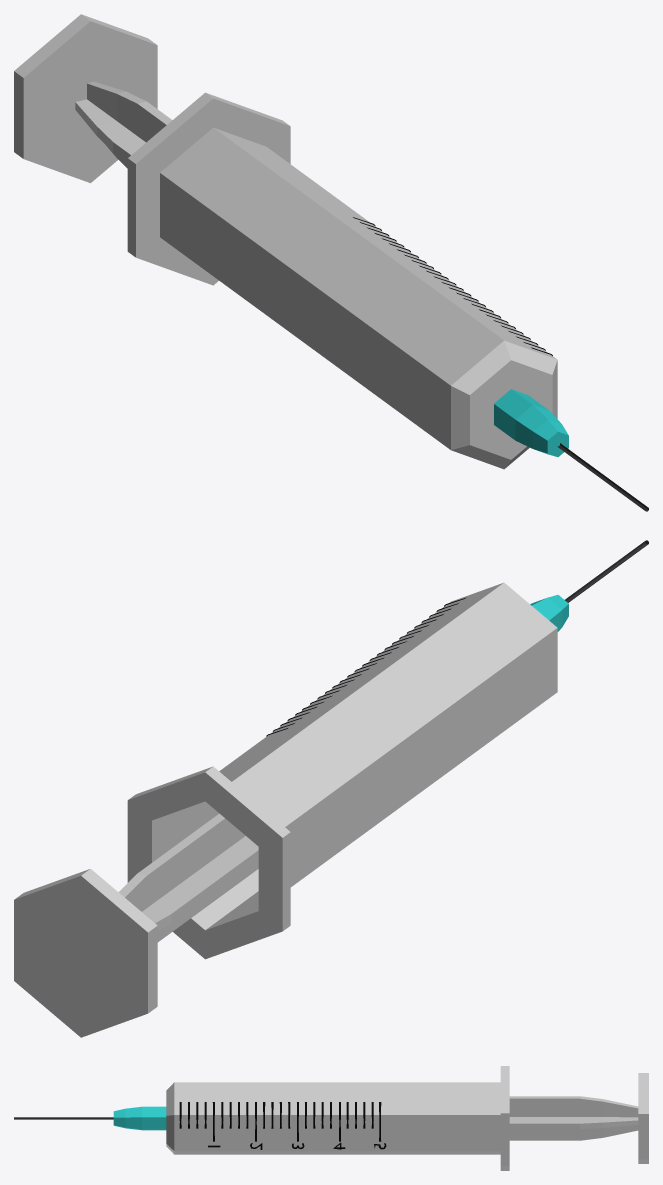
File: jeringa.obj
The picture shows the model from 3 angles, top to bottom: view 1: azimuth 30°, elevation 25°; view 2: azimuth 150°, elevation 25°; view 3: azimuth 270°, elevation 25°; orthographic projection. The views are drawn at different scales.
Visible parts, largest first — view 1: pieza_0, pieza_40, pieza_2, pieza_3, pieza_35, pieza_38, pieza_39; view 2: pieza_0, pieza_40, pieza_2, pieza_38, pieza_39, pieza_1, pieza_35; view 3: pieza_0, pieza_38, pieza_39, pieza_35, pieza_2, pieza_40, pieza_3, pieza_36.
Part boxes in pixels (x1,y1,x2,y2): pieza_0: (160, 127, 556, 449); pieza_40: (14, 14, 157, 183); pieza_2: (127, 92, 290, 285); pieza_3: (451, 340, 557, 469); pieza_35: (494, 389, 568, 456); pieza_38: (87, 81, 172, 168); pieza_39: (75, 99, 145, 161); pieza_0: (219, 582, 557, 887); pieza_40: (14, 868, 157, 1037); pieza_2: (127, 766, 290, 959); pieza_38: (118, 813, 258, 942); pieza_39: (142, 836, 258, 931); pieza_1: (159, 801, 258, 924); pieza_35: (530, 595, 568, 631); pieza_0: (174, 1082, 500, 1154); pieza_38: (509, 1096, 638, 1140); pieza_39: (509, 1117, 638, 1129); pieza_35: (113, 1106, 166, 1130); pieza_2: (500, 1066, 509, 1170); pieza_40: (638, 1073, 648, 1163); pieza_3: (166, 1082, 174, 1154); pieza_36: (14, 1117, 113, 1119).
Bounding box in the file's own units: 0.2963 × 0.3422 × 1.88.
